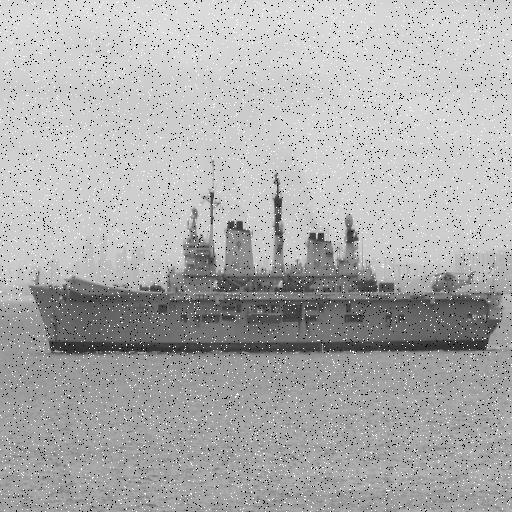Portanaves: (28, 150, 505, 358)
